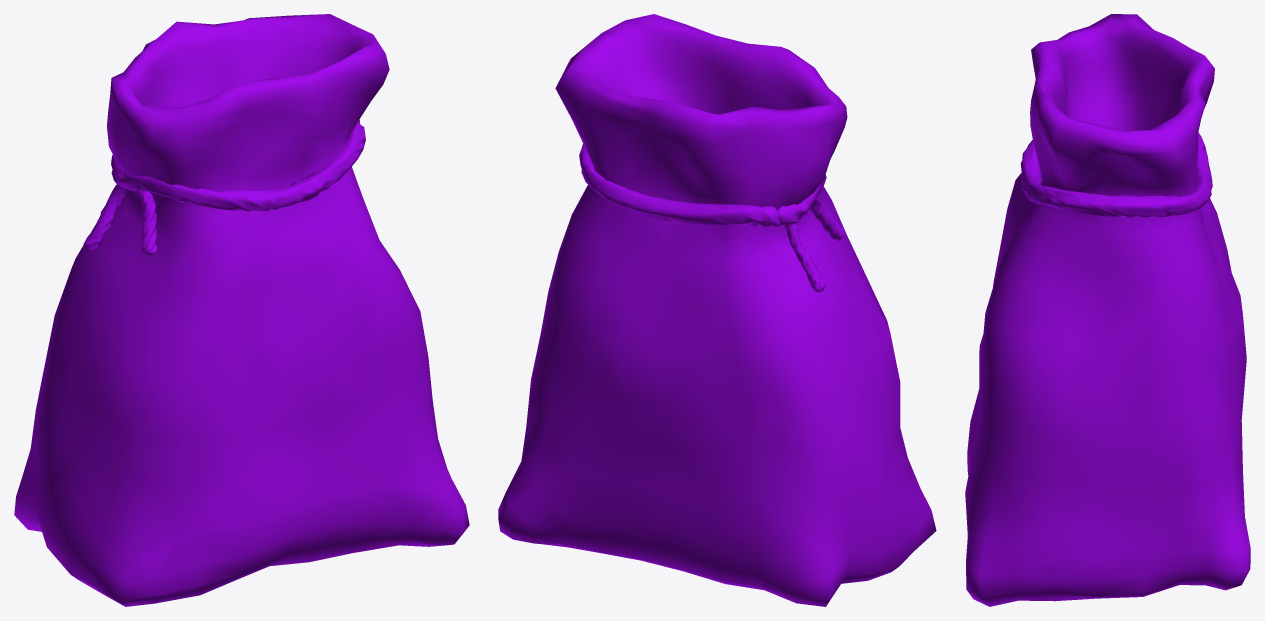
Rendered from sacapatate_lowUv.fbx.
3 renders of one model, left to right at view 1: azimuth 30°, elevation 25°; view 2: azimuth 150°, elevation 25°; view 3: azimuth 270°, elevation 25°, orthographic.
Visible parts, largest first — view 1: sacapatate_low, corde2_low, cordesac_low; view 2: sacapatate_low, corde2_low, cordesac_low; view 3: sacapatate_low, corde2_low.
Boxes of the visible parts, box(x1,y1,x2,y2) form: sacapatate_low: box(14, 14, 469, 606); corde2_low: box(111, 120, 365, 211); cordesac_low: box(83, 184, 157, 255); sacapatate_low: box(498, 14, 936, 606); corde2_low: box(579, 144, 826, 227); cordesac_low: box(786, 196, 845, 292); sacapatate_low: box(965, 14, 1250, 606); corde2_low: box(1020, 132, 1212, 217).
Size of the model in its own units: 2.77 by 3.78 by 1.97.
